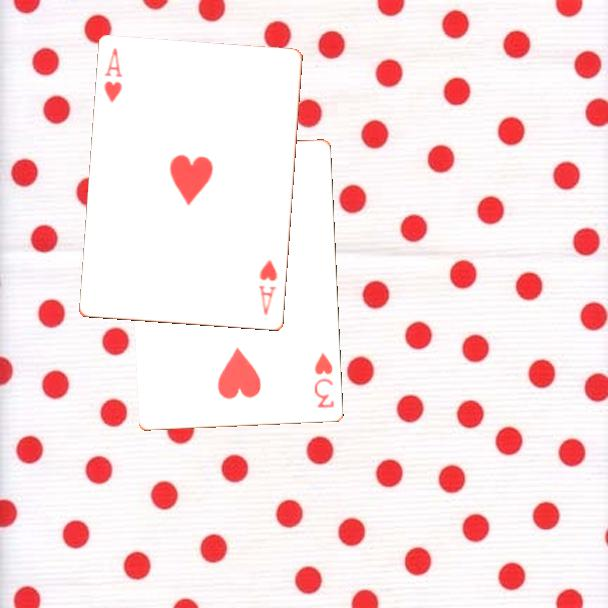h01: (255, 256, 280, 318), (101, 45, 126, 106)
h03: (311, 349, 337, 411)
